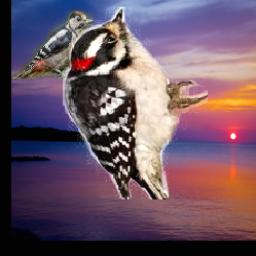Woodpecker: (64, 8, 209, 200), (13, 12, 95, 80)
